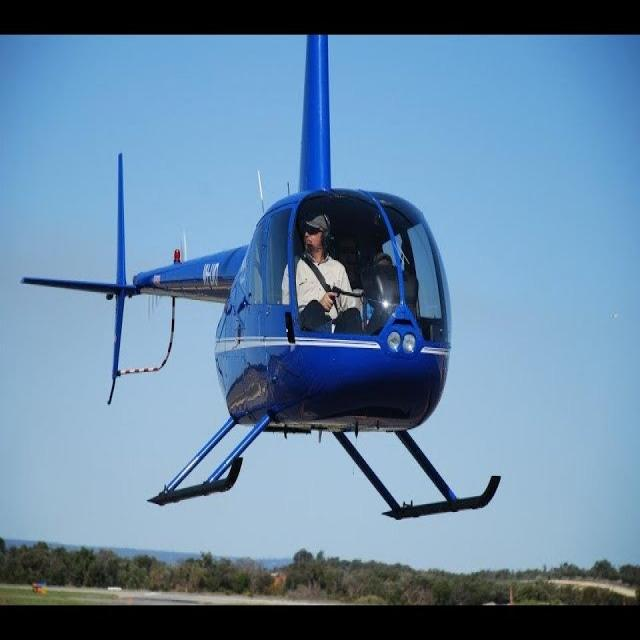CIV_HELO: (20, 42, 504, 522)
